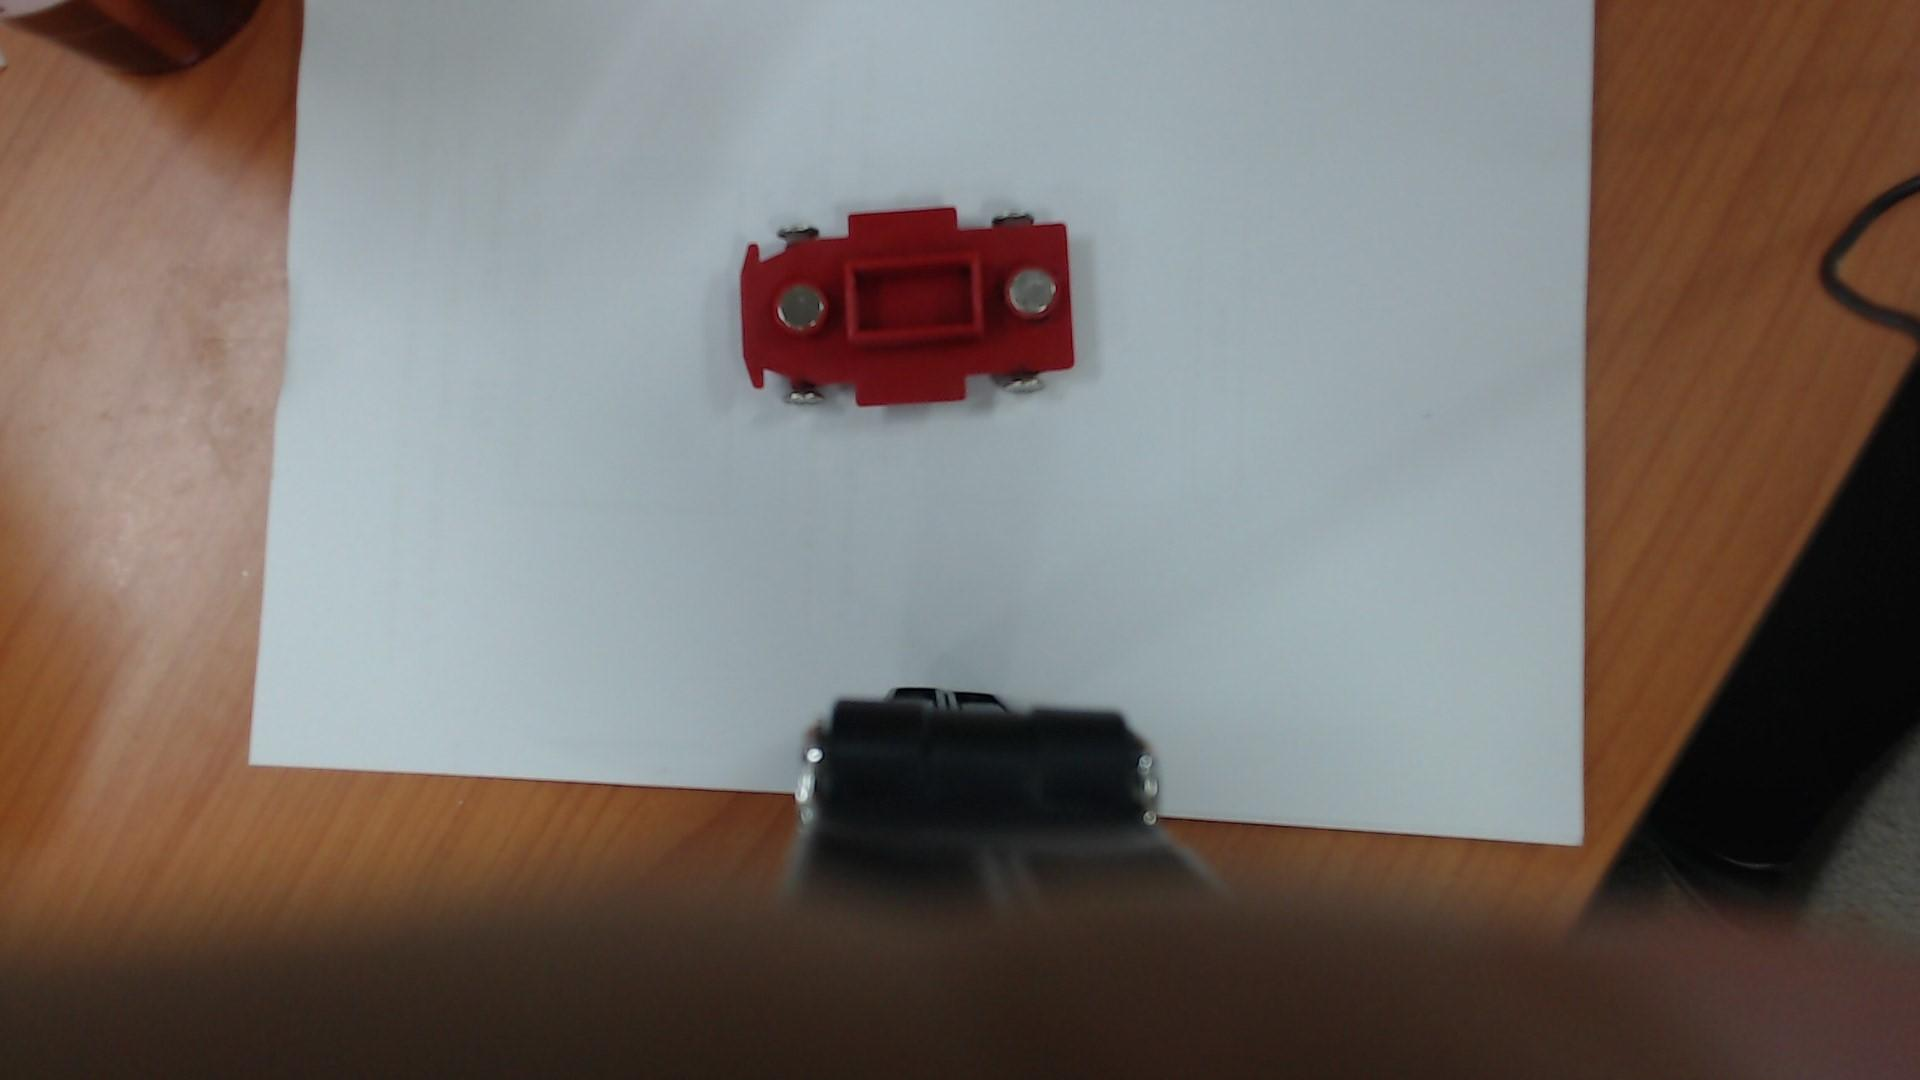lower_ok: (839, 243, 994, 356)
